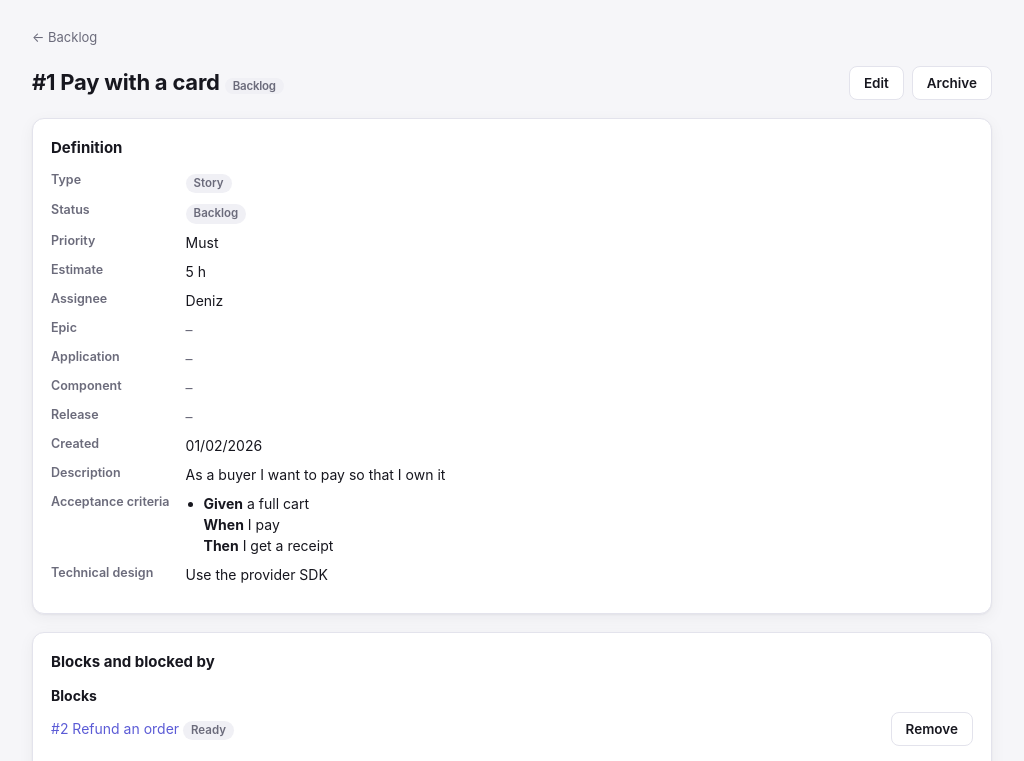
Test: blocks and blocked by › shows the refusal when a link cannot be removed
Expected: the heading "#1 Pay with a card Backlog" is shown, left=32, top=69, right=284, bottom=96
Step 1. Click the button with aria-label "Remove #2" → {"x": 932, "y": 729}, box left=891, top=712, right=973, bottom=746
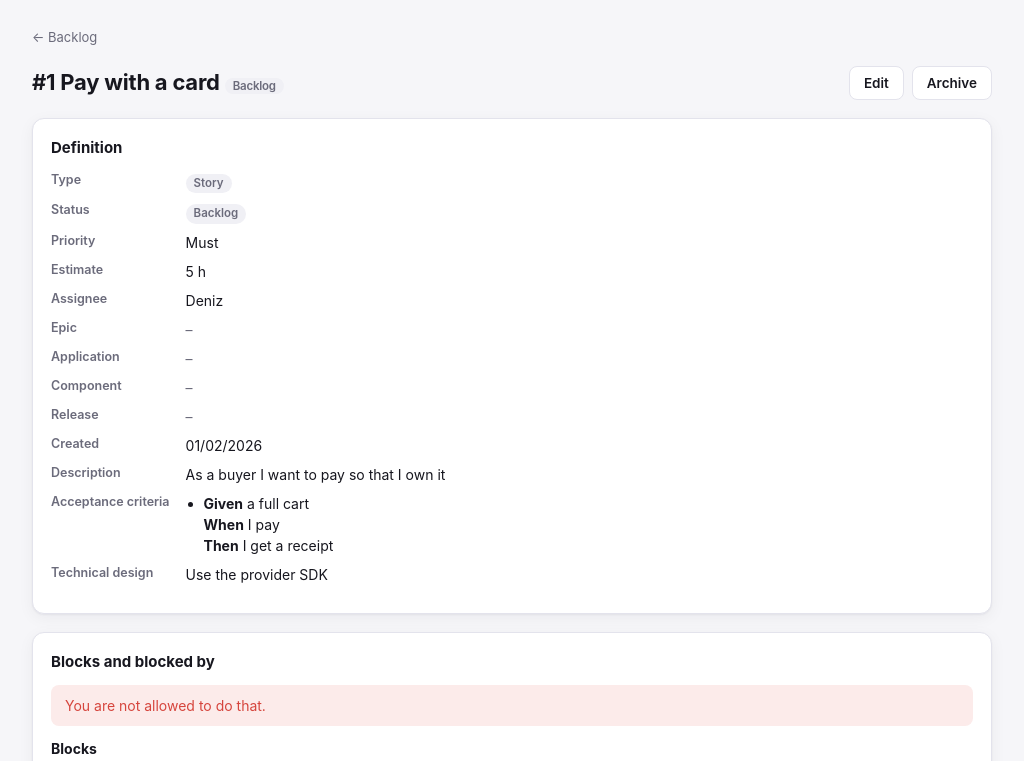
Now the text "You are not allowed to do that." is shown, box left=51, top=685, right=973, bottom=726
